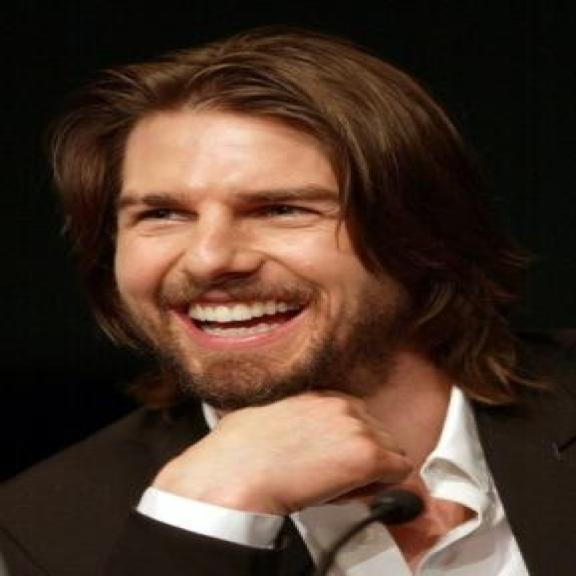face: (107, 105, 421, 415)
